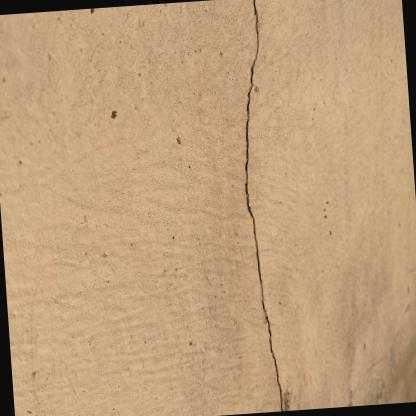crack: (244, 0, 283, 411)
